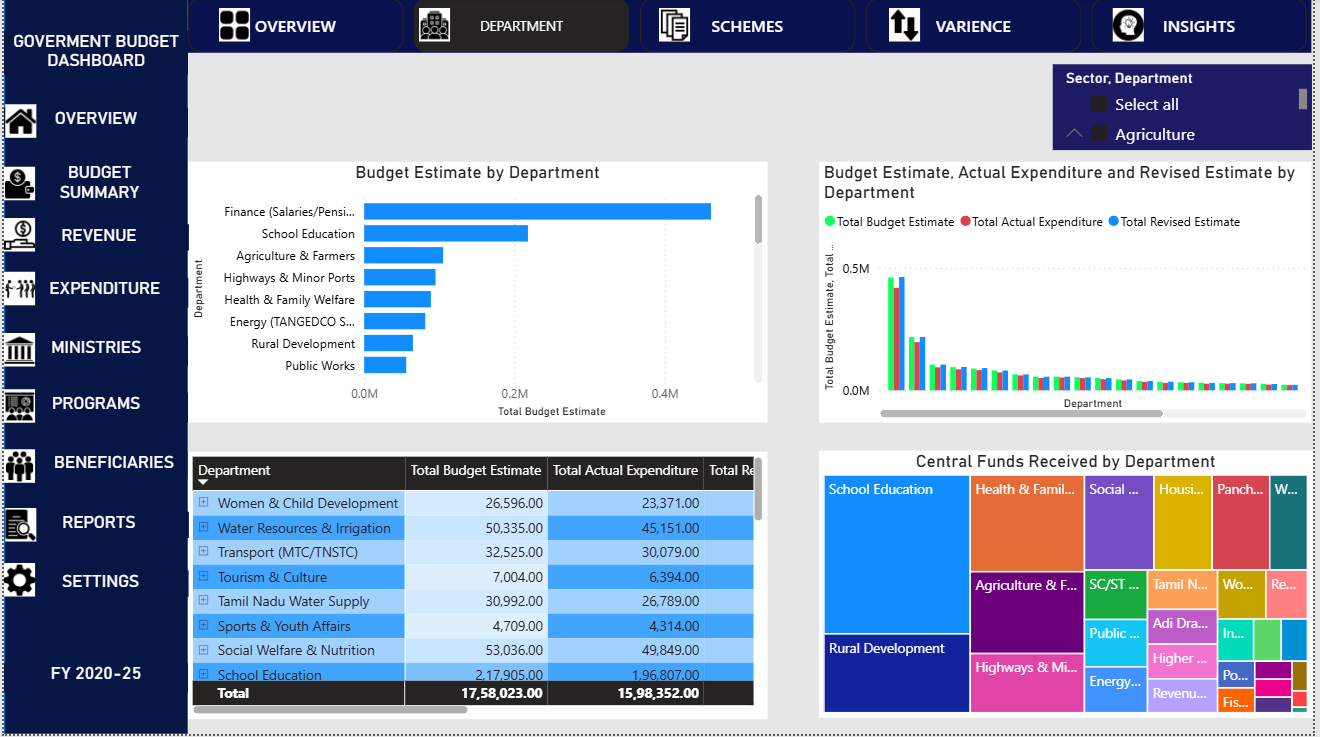

What the dashboard file says about the page in this screenshot:
{"tool":"powerbi","page":{"name":"DEPARTMENT","canvas":[1280,720],"ordinal":1},"visuals":[{"type":"barChart","title":"Budget Estimate by Department","fields":{"Category":["DIM_DEPARTMENT.Department"],"Y":["MEASURE 1.Total Budget Estimate"]},"box":[179.8,160.2,567.4,255.6],"z":0},{"type":"clusteredColumnChart","title":" Budget Estimate,  Actual Expenditure and  Revised Estimate by Department","fields":{"Category":["DIM_DEPARTMENT.Department"],"Y":["MEASURE 1.Total Budget Estimate","MEASURE 1.Total Actual Expenditure","MEASURE 2.Total Revised Estimate"]},"box":[797.3,160.2,481.8,255.6],"z":1},{"type":"pivotTable","fields":{"Rows":["DIM_DEPARTMENT.Department","DIM_DEPARTMENT.Sector"],"Values":["MEASURE 1.Total Budget Estimate","MEASURE 1.Total Actual Expenditure","MEASURE 2.Total Revised Estimate","MEASURE 2.Revision Variance %","MEASURE 1.Budget Utilization %"]},"box":[179.8,443.9,567.4,261.7],"z":3},{"type":"treemap","title":" Central Funds Received by Department","fields":{"Group":["DIM_DEPARTMENT.Department"],"Values":["MEASURE 2.Total Central Funds Received"]},"box":[797.3,443,483,261.7],"z":4},{"type":"slicer","fields":{"Values":["DIM_DEPARTMENT.Sector","DIM_DEPARTMENT.Department"]},"box":[1025.8,64.9,253.9,83.7],"z":7},{"type":"shape","box":[0,0,180,720.2],"z":8},{"type":"textbox","title":"GOVERMENT BUDGET DASHBOARD","box":[0,31.7,180.3,43.3],"z":9},{"type":"textbox","title":"OVERVIEW","box":[0,108.2,180.3,28.9],"z":10},{"type":"textbox","title":"      BUDGET SUMMARY","box":[17.3,160.1,152.9,37.5],"z":11},{"type":"textbox","title":"REVENUE","box":[4.3,220.7,176,26],"z":12},{"type":"textbox","title":"EXPENDITURE","box":[17.3,274.1,163,28.9],"z":13},{"type":"textbox","title":"MINISTRIES","box":[0,331.8,180.3,28.9],"z":14},{"type":"textbox","title":"PROGRAMS","box":[0,386.7,180.3,28.9],"z":15},{"type":"textbox","title":"BENEFICIARIES","box":[36.1,444.4,144.3,26],"z":16},{"type":"textbox","title":"REPORTS","box":[4.3,502.1,176,26],"z":17},{"type":"textbox","title":"SETTINGS","box":[8.7,559.8,171.7,26],"z":18},{"type":"textbox","title":"FY 2020-25   ","box":[0,650.7,180.3,28.9],"z":19},{"type":"pageNavigator","box":[180.3,0,1099.4,53.4],"z":20},{"type":"image","box":[210.6,10.1,30.3,33.2],"z":21},{"type":"image","box":[405.4,10.1,30.3,33.2],"z":22},{"type":"image","box":[640.6,10.1,30.3,33.2],"z":23},{"type":"image","box":[865.7,10.1,30.3,33.2],"z":24},{"type":"image","box":[1085,10.1,30.3,33.2],"z":25},{"type":"image","box":[1.4,103.9,30.3,33.2],"z":26},{"type":"image","box":[0,164.5,30.3,33.2],"z":27},{"type":"image","box":[0,215,30.3,33.2],"z":28},{"type":"image","box":[0,268.4,30.3,33.2],"z":29},{"type":"image","box":[0,327.5,30.3,33.2],"z":30},{"type":"image","box":[0,382.3,30.3,33.2],"z":31},{"type":"image","box":[0,441.5,30.3,33.2],"z":32},{"type":"image","box":[1.4,499.2,30.3,33.2],"z":33},{"type":"image","box":[0,552.6,30.3,33.2],"z":34}]}

Visuals, with their boxes in screenshot pixels (x1, y1, x2, y2), scaled from the page's 1280x720 canvas onto the 1320x737 screenshot:
"Budget Estimate by Department" barChart: 185/164/771/426
" Budget Estimate,  Actual Expenditure and  Revised Estimate by Department" clusteredColumnChart: 822/164/1319/426
pivotTable - DIM_DEPARTMENT.Department x DIM_DEPARTMENT.Sector: 185/454/771/722
" Central Funds Received by Department" treemap: 822/453/1319/721
slicer - DIM_DEPARTMENT.Sector x DIM_DEPARTMENT.Department: 1058/66/1319/152
shape: 0/0/186/736
"GOVERMENT BUDGET DASHBOARD" textbox: 0/32/186/77
"OVERVIEW" textbox: 0/111/186/140
"      BUDGET SUMMARY" textbox: 18/164/176/202
"REVENUE" textbox: 4/226/186/253
"EXPENDITURE" textbox: 18/281/186/310
"MINISTRIES" textbox: 0/340/186/369
"PROGRAMS" textbox: 0/396/186/425
"BENEFICIARIES" textbox: 37/455/186/482
"REPORTS" textbox: 4/514/186/541
"SETTINGS" textbox: 9/573/186/600
"FY 2020-25   " textbox: 0/666/186/696
pageNavigator: 186/0/1319/55
image: 217/10/248/44
image: 418/10/449/44
image: 661/10/692/44
image: 893/10/924/44
image: 1119/10/1150/44
image: 1/106/33/140
image: 0/168/31/202
image: 0/220/31/254
image: 0/275/31/309
image: 0/335/31/369
image: 0/391/31/425
image: 0/452/31/486
image: 1/511/33/545
image: 0/566/31/600
